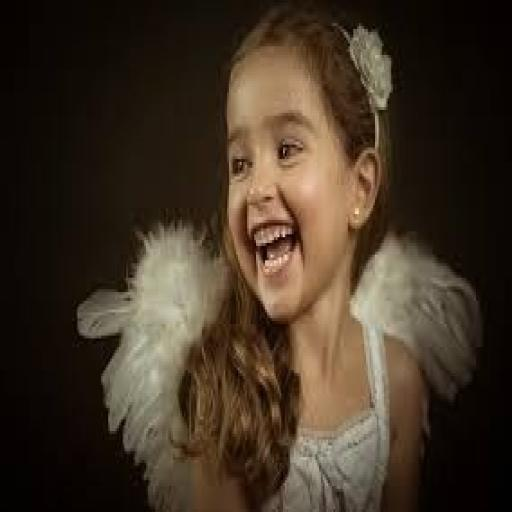laughing: (74, 6, 485, 506)
